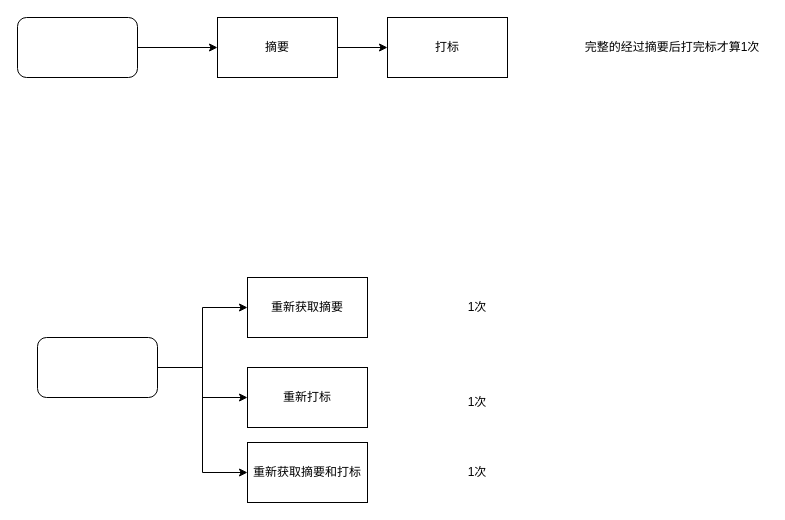
Image size: 785x520. Some labels were removed from this diagram. Here are the shapes that lost their labels. From the top down, the box of each, then its label:
(16, 16, 138, 78): 定时任务
(36, 336, 158, 398): 点击
